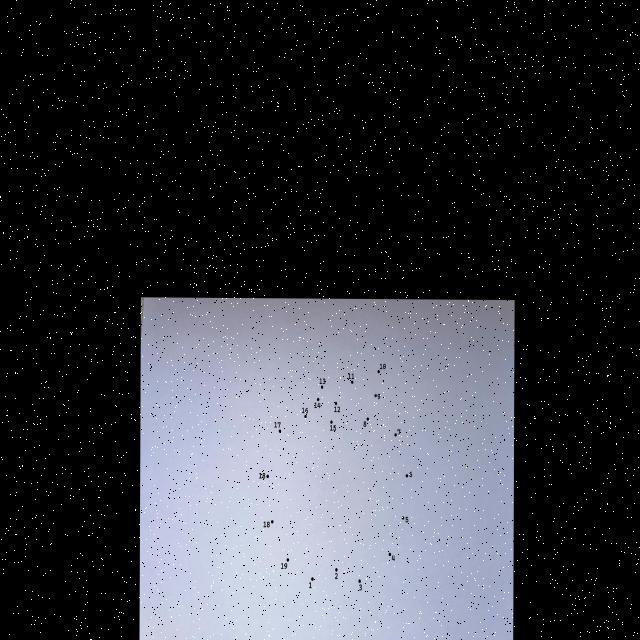Dot: (316, 398, 320, 402), (334, 402, 338, 406), (278, 429, 282, 433), (388, 552, 392, 556), (270, 520, 274, 524), (377, 369, 380, 374), (351, 380, 354, 384), (321, 385, 324, 389), (304, 414, 307, 418), (330, 420, 333, 424), (366, 417, 369, 421), (394, 433, 397, 437), (358, 579, 361, 583), (335, 568, 338, 572), (311, 577, 314, 581), (286, 558, 289, 562), (406, 473, 408, 478), (374, 394, 377, 397), (266, 475, 269, 478), (402, 516, 404, 520)
DotNumber: (377, 363, 386, 374), (274, 422, 282, 433), (281, 558, 289, 569), (263, 520, 274, 528), (388, 552, 396, 562), (319, 378, 326, 389), (334, 401, 340, 413), (314, 398, 321, 408), (259, 472, 269, 479), (348, 373, 354, 384), (330, 421, 336, 432), (302, 408, 308, 418), (394, 429, 401, 437), (401, 516, 409, 523), (309, 577, 314, 588), (364, 417, 369, 427), (374, 393, 381, 400), (358, 579, 362, 591), (406, 471, 412, 478), (335, 568, 338, 579)
Number: (259, 472, 266, 479), (380, 363, 386, 370), (314, 402, 321, 408), (302, 407, 308, 414), (274, 422, 281, 428), (348, 373, 354, 379), (320, 378, 326, 384), (334, 406, 340, 412), (330, 425, 336, 431), (281, 563, 287, 569), (264, 521, 270, 527), (377, 393, 381, 400), (405, 516, 409, 523), (363, 421, 367, 427), (397, 429, 401, 435), (335, 572, 338, 580), (409, 471, 412, 478), (359, 584, 362, 591), (392, 555, 395, 561), (309, 582, 312, 588)
